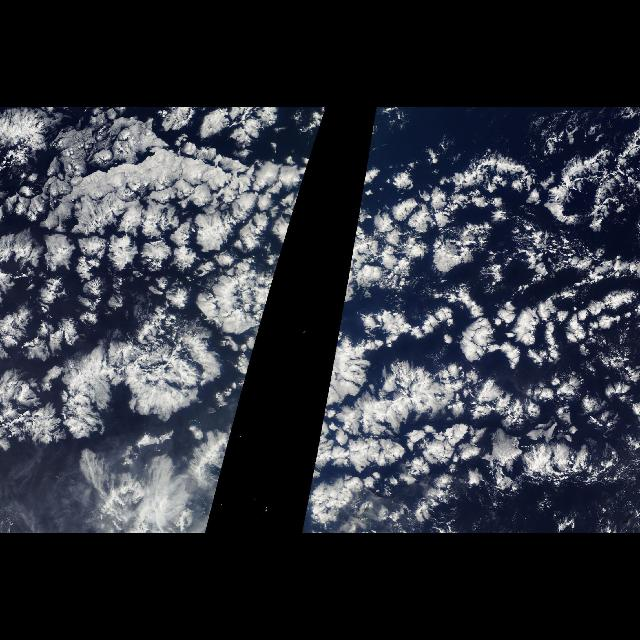Flower: (309, 110, 635, 528), (2, 110, 326, 494)
